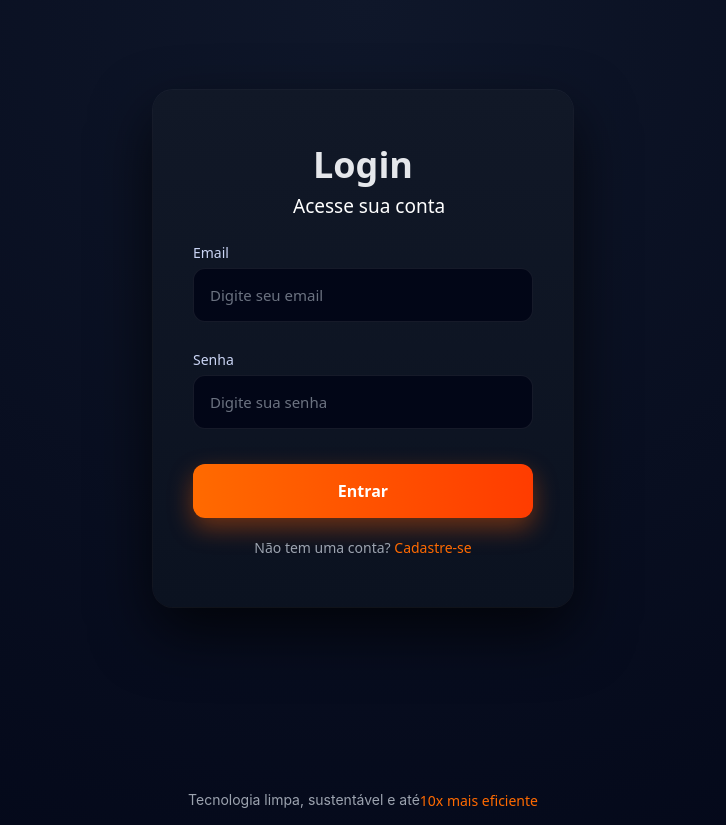
Test: Login › deve mostrar erro para email inválido
In the field with placeholder "Digite seu email": (363, 295) [193,268,533,322], type "email-invalido"
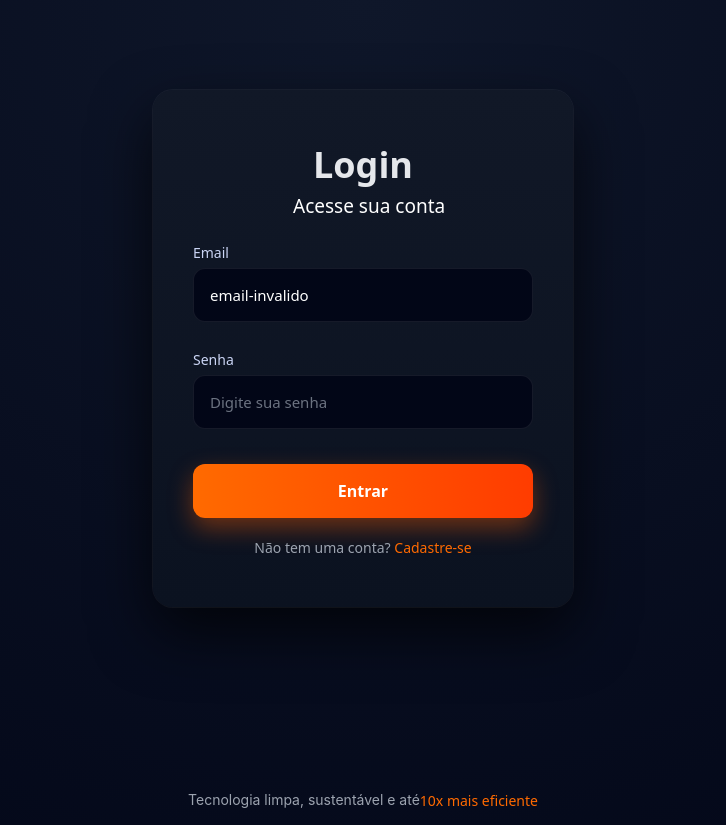
In the password field with placeholder "Digite sua senha": (363, 402) [193,375,533,429], type "123456"
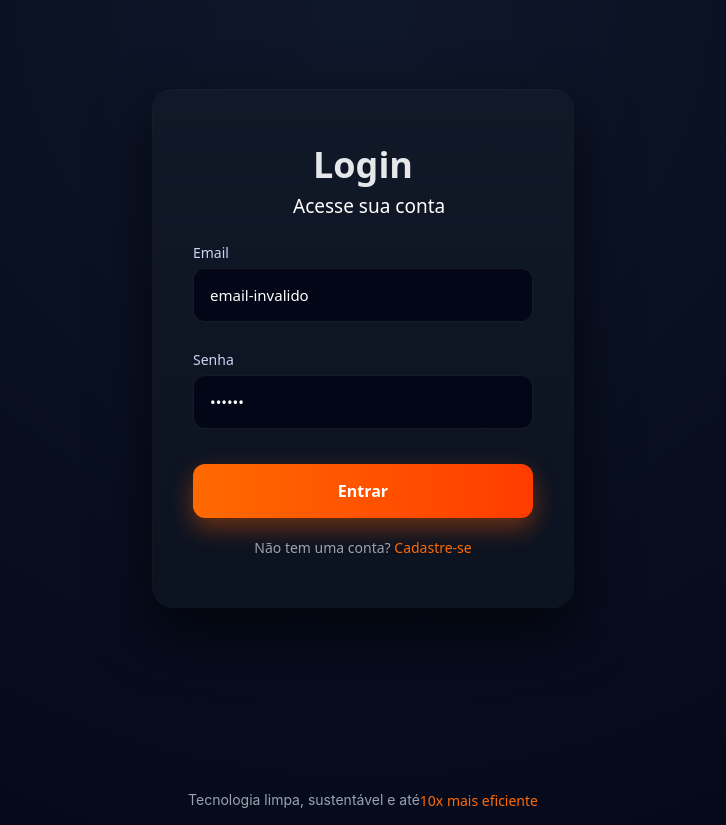
Click the button "Entrar": (363, 491) [193,464,533,518]
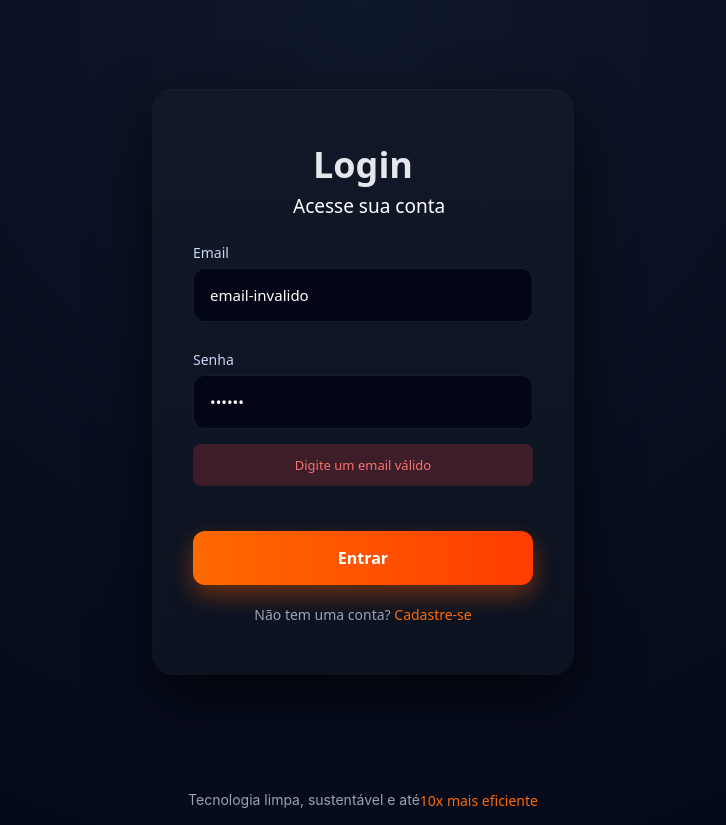
Expected: the text "Digite um email válido" is shown, [193,444,533,486]
